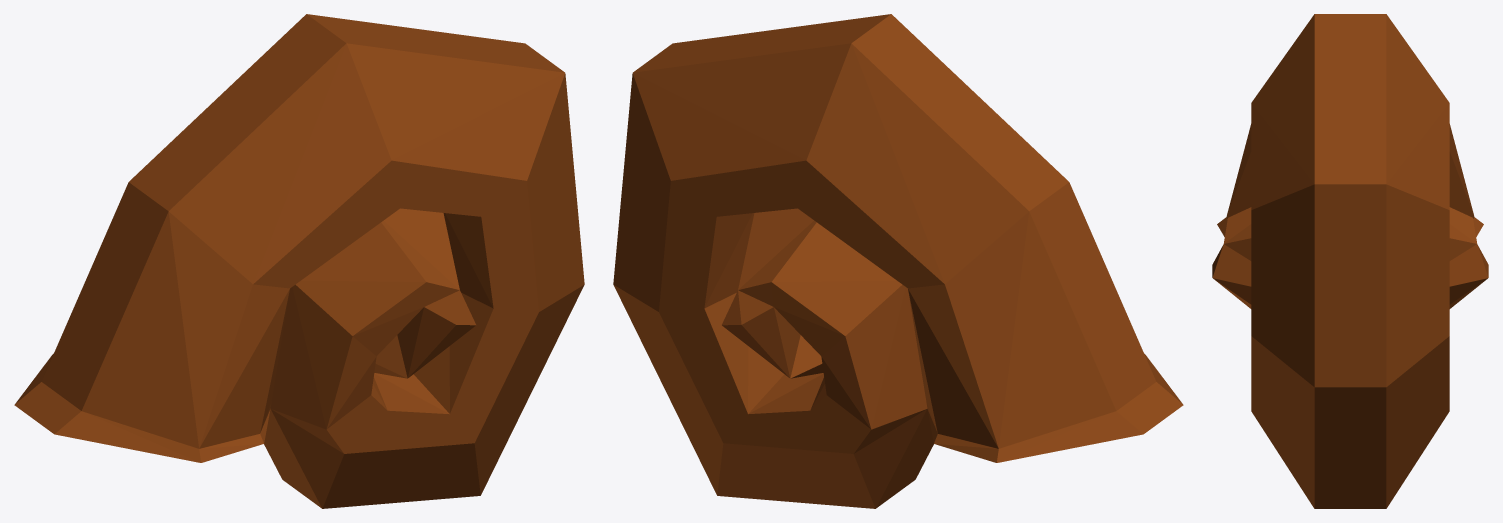
The model's file is Prop_Shell_01.fbx.
The picture shows the model from 3 angles, left to right: view 1: azimuth 30°, elevation 25°; view 2: azimuth 150°, elevation 25°; view 3: azimuth 270°, elevation 25°; orthographic projection. The views are drawn at different scales.
Visible parts, largest first — view 1: Prop_Shell_01; view 2: Prop_Shell_01; view 3: Prop_Shell_01.
Part boxes in pixels (bbox=[...]): Prop_Shell_01: bbox=[14, 14, 584, 508]; Prop_Shell_01: bbox=[613, 14, 1183, 508]; Prop_Shell_01: bbox=[1212, 14, 1488, 508].
Bounding box in the file's own units: 129 × 113 × 64.72.
